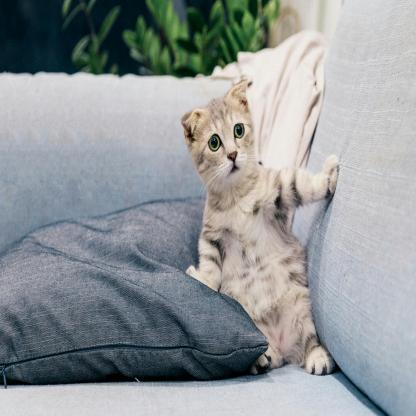cat: (180, 74, 341, 377)
